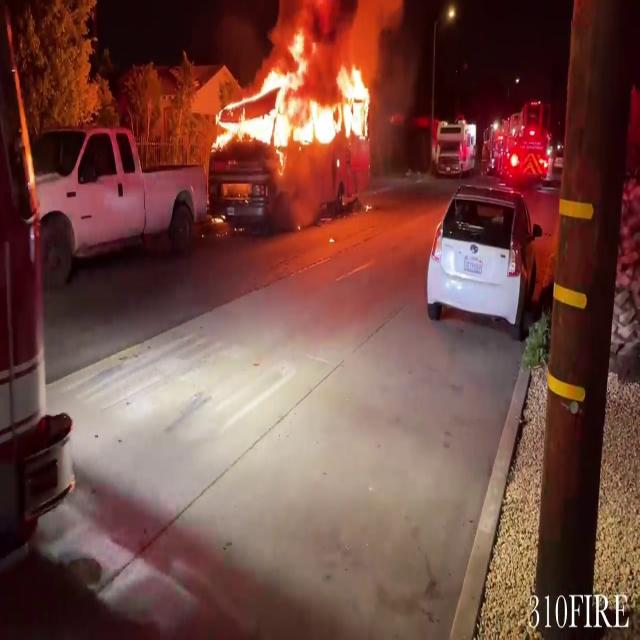Fire: (213, 20, 379, 160)
Smoke: (263, 0, 415, 62)
